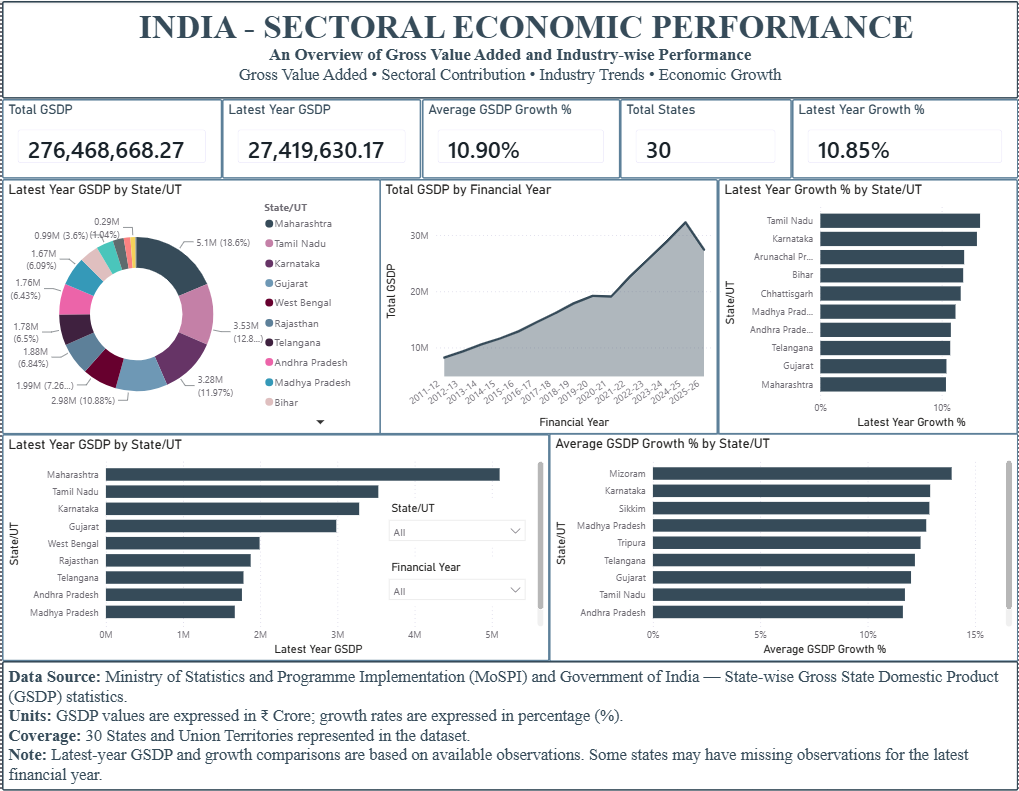

What the dashboard file says about the page in this screenshot:
{"tool":"powerbi","page":{"name":"State-wise Economic Performance","canvas":[1301,1011],"ordinal":6},"visuals":[{"type":"cardVisual","title":"Total GSDP","fields":{"Data":["Fact_State_GSDP.Total GSDP"]},"box":[0,125.4,281.8,102.2],"z":0},{"type":"cardVisual","title":"Latest Year GSDP","fields":{"Data":["Fact_State_GSDP.Latest Year GSDP"]},"box":[281.8,125.4,255.5,102.2],"z":1000},{"type":"cardVisual","title":"Average GSDP Growth %","fields":{"Data":["Fact_State_GSDP.Average GSDP Growth %"]},"box":[537.3,125.4,253.9,102.2],"z":2000},{"type":"cardVisual","title":"Total States","fields":{"Data":["Fact_State_GSDP.Total States"]},"box":[791.2,125.4,219.9,102.2],"z":3000},{"type":"clusteredBarChart","fields":{"Category":["Dim_State.State/UT"],"Y":["Fact_State_GSDP.Latest Year GSDP"]},"box":[0,554.3,701.4,291.1],"z":4000},{"type":"clusteredBarChart","fields":{"Category":["Dim_State.State/UT"],"Y":["Fact_State_GSDP.Average GSDP Growth %"]},"box":[699.9,552.8,600.8,292.6],"z":5000},{"type":"slicer","fields":{"Values":["Dim_Financial_Year.Financial Year"]},"box":[484.6,712.3,195.1,63.5],"z":6000},{"type":"slicer","fields":{"Values":["Dim_State.State/UT"]},"box":[484.6,636.4,195.1,63.5],"z":7000},{"type":"cardVisual","title":"Latest Year Growth %","fields":{"Data":["Fact_State_GSDP.Latest Year Growth %"]},"box":[1011.1,125.4,289.5,102.2],"z":8000},{"type":"clusteredBarChart","fields":{"Category":["Dim_State.State/UT"],"Y":["Fact_State_GSDP.Latest Year Growth %"]},"box":[916.6,227.6,384,326.7],"z":9000},{"type":"lineChart","fields":{"Category":["Dim_Financial_Year.Financial Year"],"Y":["Fact_State_GSDP.Total GSDP"]},"box":[483.1,227.6,433.5,326.7],"z":10000},{"type":"donutChart","fields":{"Category":["Dim_State.State/UT"],"Y":["Fact_State_GSDP.Latest Year GSDP"]},"box":[0,227.6,484.6,326.7],"z":11000},{"type":"textbox","box":[0,845.4,1300.6,165.7],"z":12000},{"type":"textbox","box":[0,0,1300.6,125.4],"z":13000}]}

Visuals, with their boxes in screenshot pixels (x1, y1, x2, y2), scaled from the page's 1301x1011 canvas onto the 1019x791 screenshot:
"Total GSDP" cardVisual: left=0, top=98, right=221, bottom=178
"Latest Year GSDP" cardVisual: left=221, top=98, right=421, bottom=178
"Average GSDP Growth %" cardVisual: left=421, top=98, right=620, bottom=178
"Total States" cardVisual: left=620, top=98, right=792, bottom=178
clusteredBarChart - Dim_State.State/UT x Fact_State_GSDP.Latest Year GSDP: left=0, top=434, right=549, bottom=661
clusteredBarChart - Dim_State.State/UT x Fact_State_GSDP.Average GSDP Growth %: left=548, top=433, right=1018, bottom=661
slicer - Dim_Financial_Year.Financial Year: left=380, top=557, right=532, bottom=607
slicer - Dim_State.State/UT: left=380, top=498, right=532, bottom=548
"Latest Year Growth %" cardVisual: left=792, top=98, right=1018, bottom=178
clusteredBarChart - Dim_State.State/UT x Fact_State_GSDP.Latest Year Growth %: left=718, top=178, right=1018, bottom=434
lineChart - Dim_Financial_Year.Financial Year x Fact_State_GSDP.Total GSDP: left=378, top=178, right=718, bottom=434
donutChart - Dim_State.State/UT x Fact_State_GSDP.Latest Year GSDP: left=0, top=178, right=380, bottom=434
textbox: left=0, top=661, right=1018, bottom=790
textbox: left=0, top=0, right=1018, bottom=98
